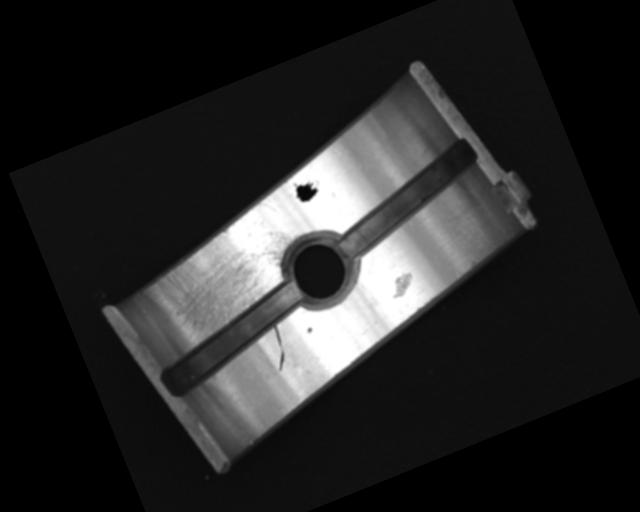blot: (290, 174, 325, 205)
bruise: (386, 270, 418, 299), (306, 326, 314, 335)
gap: (144, 277, 321, 402), (320, 137, 494, 262)
hole: (273, 222, 367, 317)
nick: (263, 324, 294, 372)
scratch: (128, 197, 321, 356)
